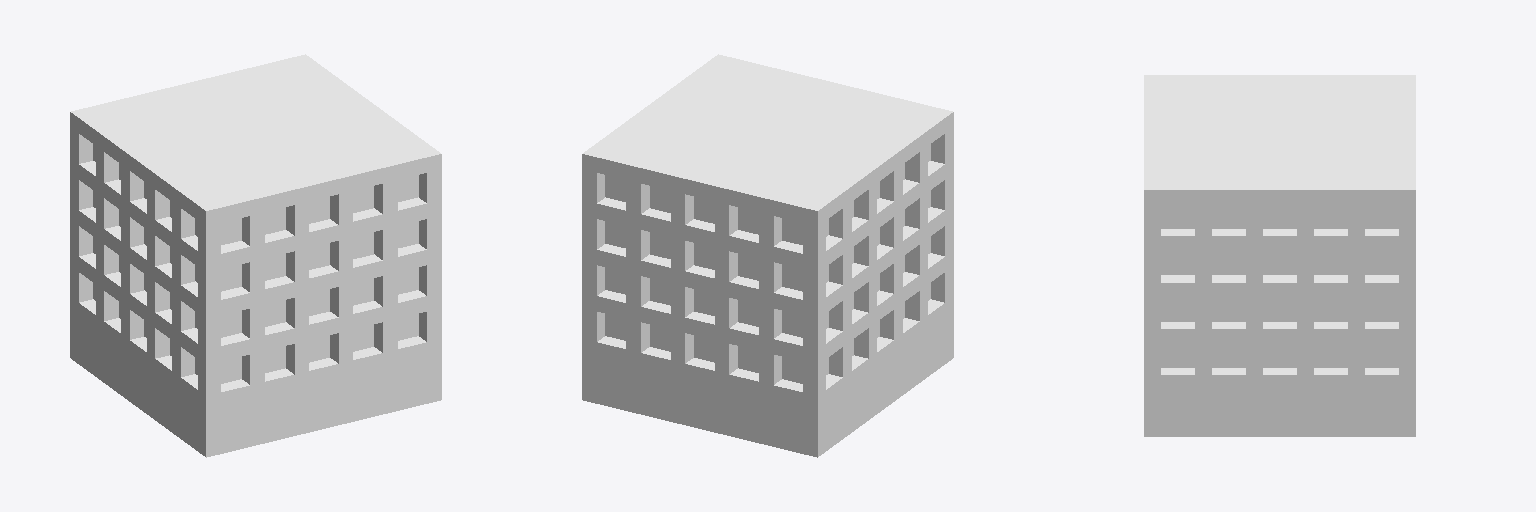
Rendered from BuildingBottom.obj.
The picture shows the model from 3 angles: view 1: azimuth 30°, elevation 25°; view 2: azimuth 150°, elevation 25°; view 3: azimuth 270°, elevation 25°; orthographic projection.
Parts seen in each view (by area): view 1: object 1; view 2: object 1; view 3: object 1.
Part boxes in pixels (x1,y1,x2,y2): object 1: (70,54,441,457); object 1: (582,54,953,457); object 1: (1144,75,1415,436).
Size of the model in its own units: 1.6 by 1.6 by 1.6.